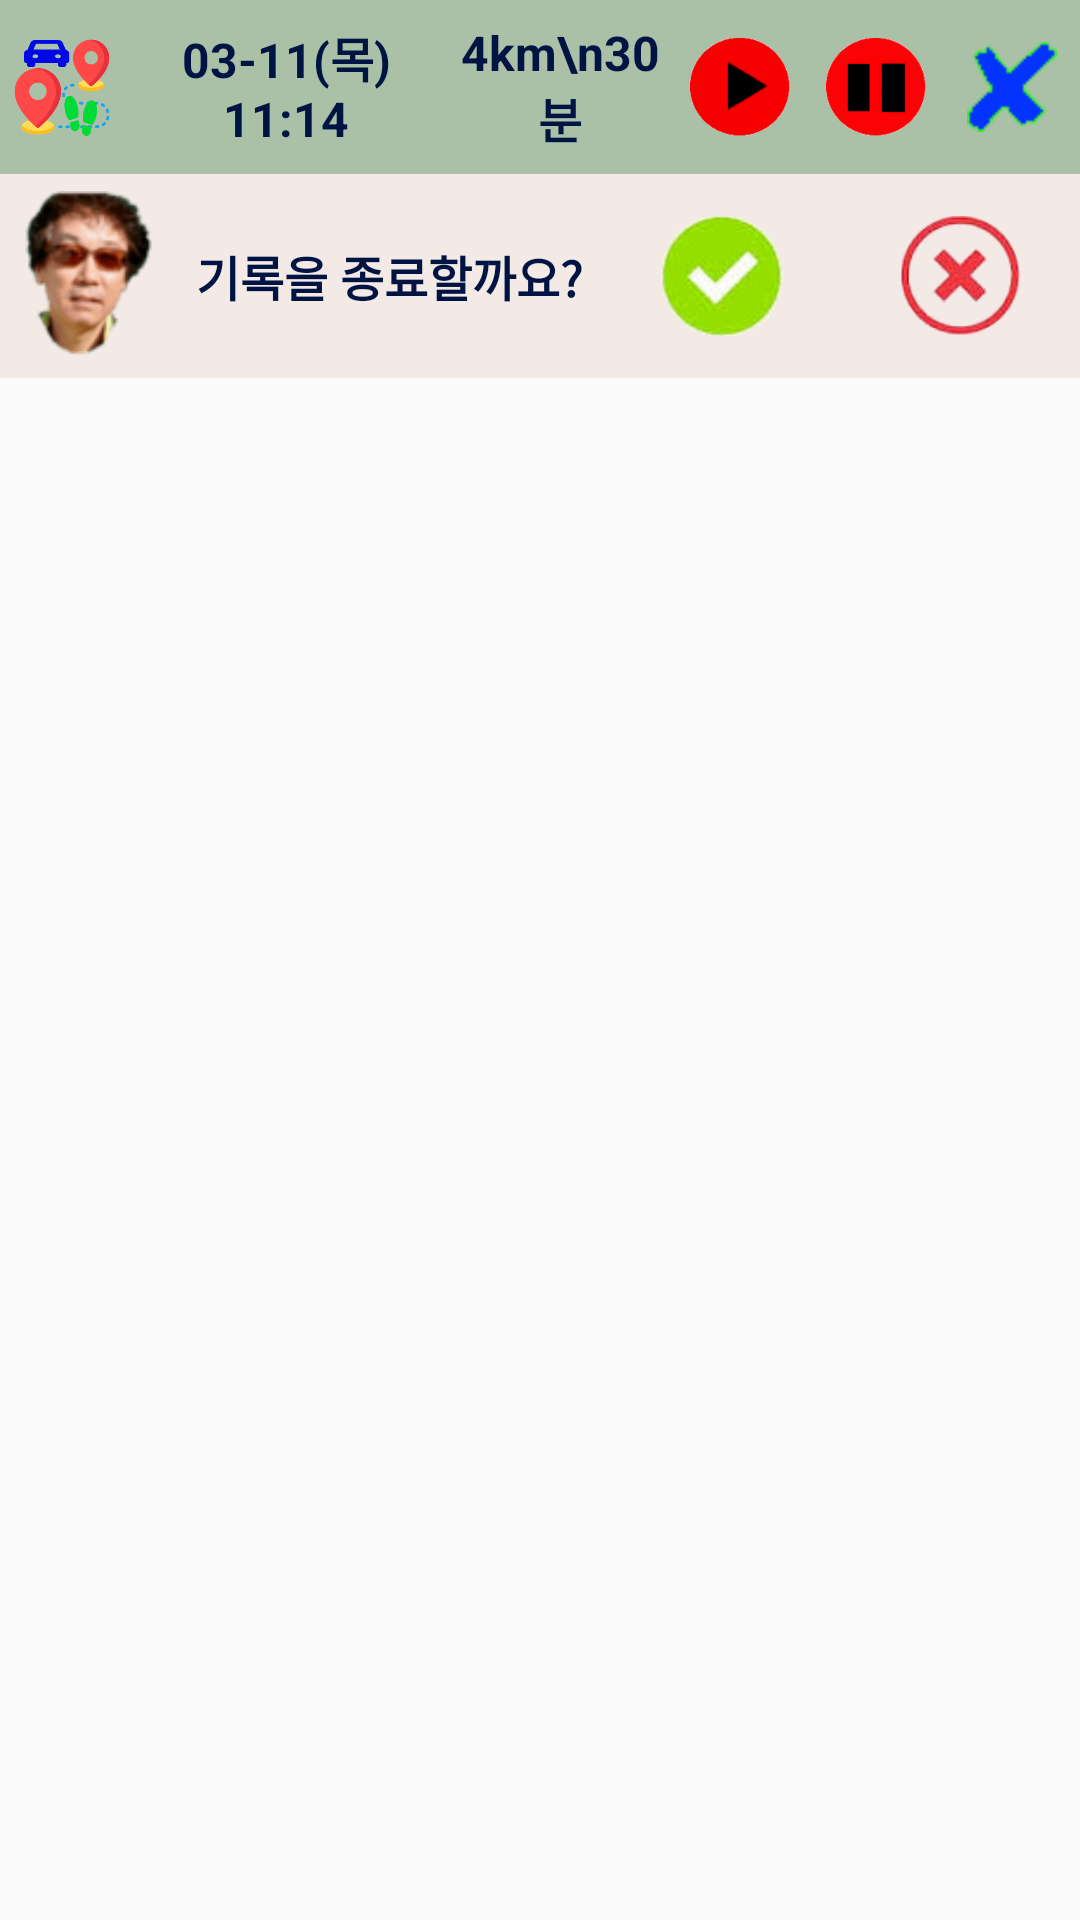

Icon bounding boxes for this 1080px x 1920px phone screenshot, format (x1, y1, x2, y2):
confirm no: (901, 216, 1020, 335)
confirm yes: (662, 216, 782, 336)
exit app: (967, 42, 1057, 132)
face: (26, 191, 152, 354)
pause: (826, 38, 926, 136)
start: (690, 38, 790, 136)
track log: (14, 39, 110, 136)
